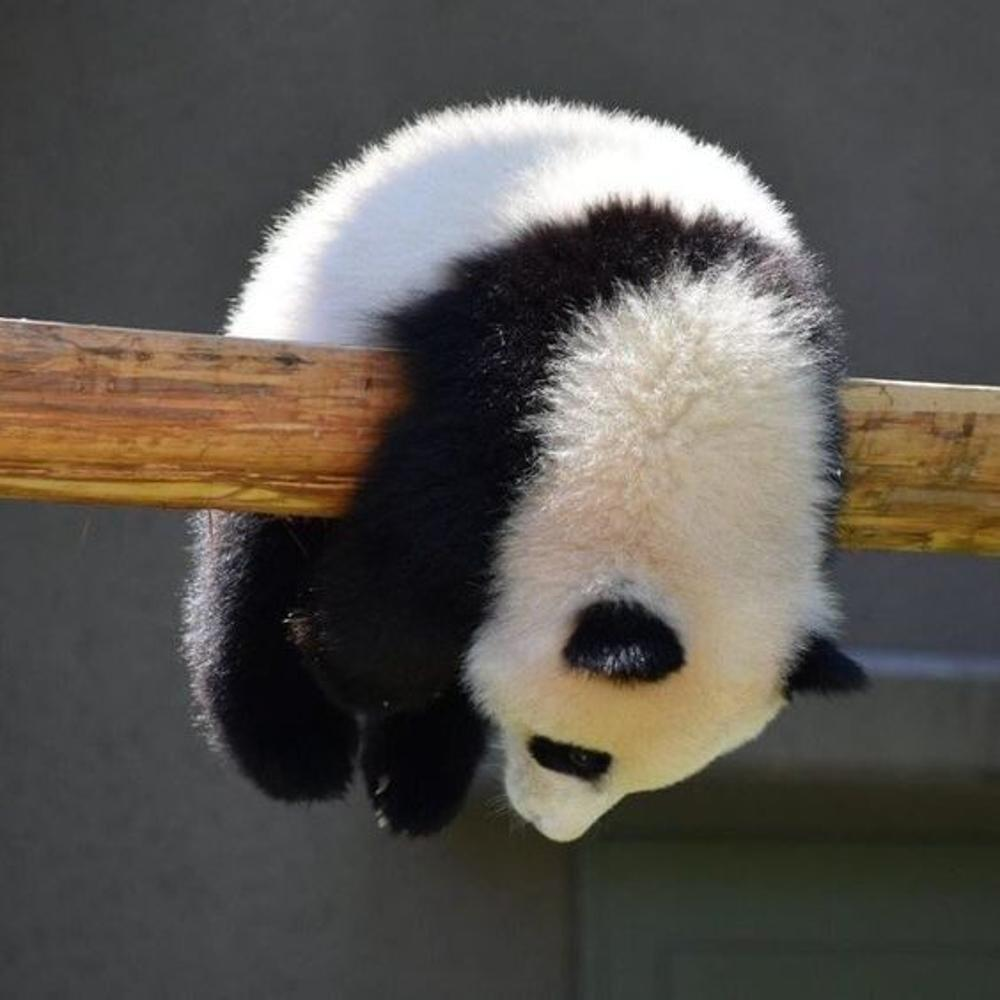panda: (176, 100, 884, 850)
